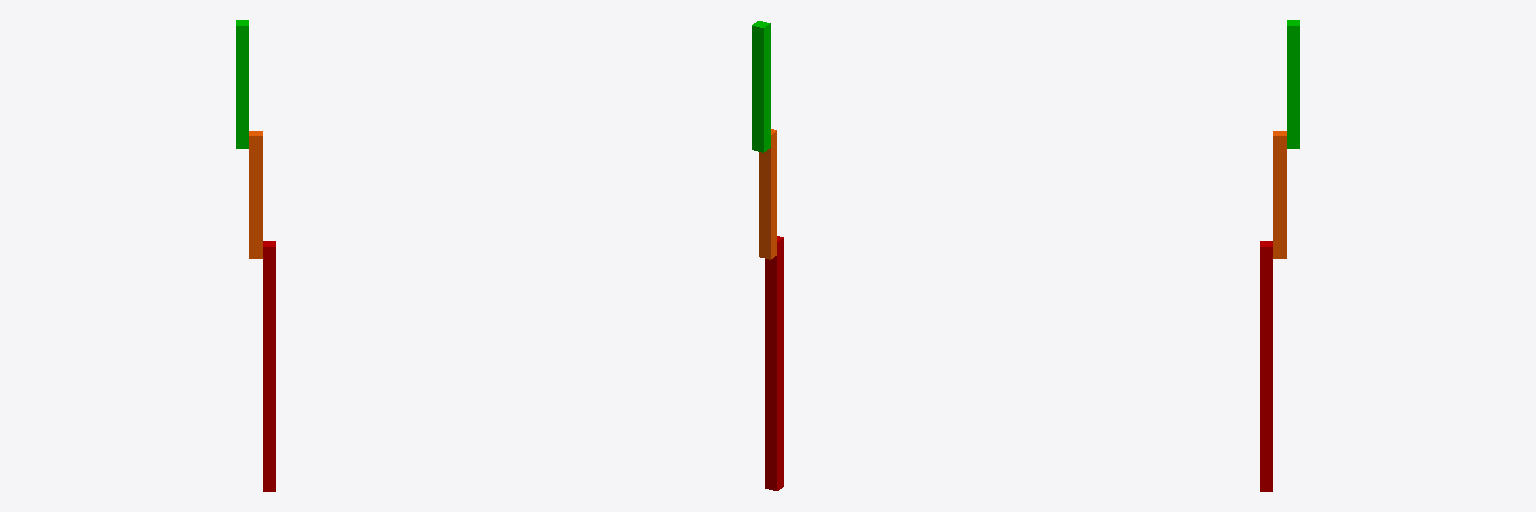
URDF robot description (two_joint_arm):
<?xml version="1.0" encoding="utf-8"?>
<!-- =================================================================================== -->
<!-- |    This document was autogenerated by xacro from two_joint_arm.xacro            | -->
<!-- |    EDITING THIS FILE BY HAND IS NOT RECOMMENDED                                 | -->
<!-- =================================================================================== -->
<robot name="two_joint_arm" xmlns:xacro="http://www.ros.org/wiki/xacro">
  <!-- Space btw top of beam and the each joint -->
  <!-- ros_control plugin -->
  <gazebo>
    <plugin filename="libgazebo_ros_control.so" name="gazebo_ros_control">
      <robotNamespace>/two_joint_arm</robotNamespace>
      <robotSimType>gazebo_ros_control/DefaultRobotHWSim</robotSimType>
    </plugin>
  </gazebo>
  <!-- Link1 -->
  <gazebo reference="link1">
    <material>Gazebo/Red</material>
  </gazebo>
  <!-- Link2 -->
  <gazebo reference="link2">
    <mu1>0.2</mu1>
    <mu2>0.2</mu2>
    <material>Gazebo/Orange</material>
  </gazebo>
  <!-- Link3 -->
  <gazebo reference="link3">
    <mu1>0.2</mu1>
    <mu2>0.2</mu2>
    <material>Gazebo/Green</material>
  </gazebo>
  <material name="black">
    <color rgba="0.0 0.0 0.0 1.0"/>
  </material>
  <material name="blue">
    <color rgba="0.0 0.0 0.8 1.0"/>
  </material>
  <material name="green">
    <color rgba="0.0 0.8 0.0 1.0"/>
  </material>
  <material name="grey">
    <color rgba="0.2 0.2 0.2 1.0"/>
  </material>
  <material name="orange">
    <color rgba="1.0 0.423529411765 0.0392156862745 1.0"/>
  </material>
  <material name="brown">
    <color rgba="0.870588235294 0.811764705882 0.764705882353 1.0"/>
  </material>
  <material name="red">
    <color rgba="0.8 0.0 0.0 1.0"/>
  </material>
  <material name="white">
    <color rgba="1.0 1.0 1.0 1.0"/>
  </material>
  <!-- Used for fixing robot to Gazebo 'base_link' -->
  <link name="world"/>
  <joint name="fixed" type="fixed">
    <parent link="world"/>
    <child link="link1"/>
  </joint>
  <!-- Base Link -->
  <link name="link1">
    <collision>
      <origin rpy="0 0 0" xyz="0 0 1.0"/>
      <geometry>
        <box size="0.1 0.1 2"/>
      </geometry>
    </collision>
    <visual>
      <origin rpy="0 0 0" xyz="0 0 1.0"/>
      <geometry>
        <box size="0.1 0.1 2"/>
      </geometry>
      <material name="red"/>
    </visual>
    <inertial>
      <origin rpy="0 0 0" xyz="0 0 1.0"/>
      <mass value="2"/>
      <inertia ixx="0.668333333333" ixy="0.0" ixz="0.0" iyy="0.668333333333" iyz="0.0" izz="0.00333333333333"/>
    </inertial>
  </link>
  <joint name="arm_joint1" type="continuous">
    <parent link="link1"/>
    <child link="link2"/>
    <origin rpy="0 0 0" xyz="0 0.1 1.95"/>
    <axis xyz="0 1 0"/>
    <dynamics damping="0.7"/>
  </joint>
  <!-- Middle Link -->
  <link name="link2">
    <collision>
      <origin rpy="0 0 0" xyz="0 0 0.45"/>
      <geometry>
        <box size="0.1 0.1 1"/>
      </geometry>
    </collision>
    <visual>
      <origin rpy="0 0 0" xyz="0 0 0.45"/>
      <geometry>
        <box size="0.1 0.1 1"/>
      </geometry>
      <material name="orange"/>
    </visual>
    <inertial>
      <origin rpy="0 0 0" xyz="0 0 0.45"/>
      <mass value="1"/>
      <inertia ixx="0.0841666666667" ixy="0.0" ixz="0.0" iyy="0.0841666666667" iyz="0.0" izz="0.00166666666667"/>
    </inertial>
  </link>
  <joint name="arm_joint2" type="continuous">
    <parent link="link2"/>
    <child link="link3"/>
    <origin rpy="0 0 0" xyz="0 0.1 0.9"/>
    <axis xyz="0 1 0"/>
    <dynamics damping="0.7"/>
  </joint>
  <!-- Top Link -->
  <link name="link3">
    <collision>
      <origin rpy="0 0 0" xyz="0 0 0.45"/>
      <geometry>
        <box size="0.1 0.1 1"/>
      </geometry>
    </collision>
    <visual>
      <origin rpy="0 0 0" xyz="0 0 0.45"/>
      <geometry>
        <box size="0.1 0.1 1"/>
      </geometry>
      <material name="green"/>
    </visual>
    <inertial>
      <origin rpy="0 0 0" xyz="0 0 0.45"/>
      <mass value="1"/>
      <inertia ixx="0.0841666666667" ixy="0.0" ixz="0.0" iyy="0.0841666666667" iyz="0.0" izz="0.00166666666667"/>
    </inertial>
  </link>
  <!-- joint transmission -->
  <transmission name="tran1">
    <type>transmission_interface/SimpleTransmission</type>
    <joint name="arm_joint1">
      <hardwareInterface>hardware_interface/EffortJointInterface</hardwareInterface>
    </joint>
    <actuator name="motor1">
      <hardwareInterface>hardware_interface/EffortJointInterface</hardwareInterface>
      <mechanicalReduction>1</mechanicalReduction>
    </actuator>
  </transmission>
  <transmission name="tran2">
    <type>transmission_interface/SimpleTransmission</type>
    <joint name="arm_joint2">
      <hardwareInterface>hardware_interface/EffortJointInterface</hardwareInterface>
    </joint>
    <actuator name="motor2">
      <hardwareInterface>hardware_interface/EffortJointInterface</hardwareInterface>
      <mechanicalReduction>1</mechanicalReduction>
    </actuator>
  </transmission>
</robot>

--- What the picture shows (computed from the rendered views, not written in the file) ---
The picture shows the robot from 3 angles, left to right: view 1: azimuth 90°, elevation 25°; view 2: azimuth 150°, elevation 25°; view 3: azimuth 270°, elevation 25°; orthographic projection.
Model two_joint_arm with 4 links and 3 joints (2 continuous, 1 fixed), rooted at world, posed every joint at zero.
Visible links, largest first — view 1: link1, link2, link3; view 2: link1, link3, link2; view 3: link1, link2, link3.
Link boxes in pixels (x1,y1,x2,y2): link1: [263, 241, 275, 491]; link2: [249, 131, 262, 258]; link3: [236, 20, 248, 148]; link1: [765, 236, 783, 490]; link3: [752, 21, 770, 152]; link2: [759, 129, 776, 259]; link1: [1260, 241, 1272, 491]; link2: [1273, 131, 1286, 258]; link3: [1287, 20, 1299, 148].
Bounding box of the posed robot: 0.1 × 0.3 × 3.8 m (x, y, z).
Geometry: primitives only (box / cylinder / sphere), no mesh files.
